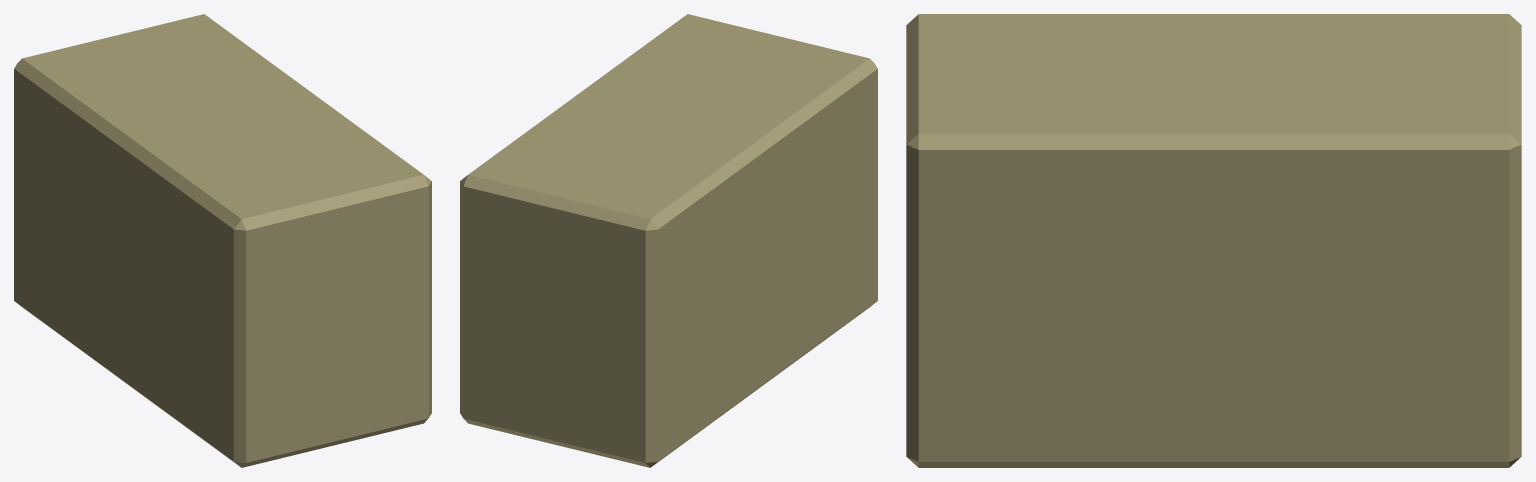
File: OBJ_conteneur_LP.fbx
3 renders of one model, left to right at view 1: azimuth 30°, elevation 25°; view 2: azimuth 150°, elevation 25°; view 3: azimuth 270°, elevation 25°, orthographic. The views are drawn at different scales.
Visible parts, largest first — view 1: Box001; view 2: Box001; view 3: Box001.
Part boxes in pixels (<box>): Box001: <box>14,14,431,467</box>; Box001: <box>460,14,877,467</box>; Box001: <box>906,14,1521,467</box>.
Bounding box in the file's own units: 500 × 600 × 1000.
